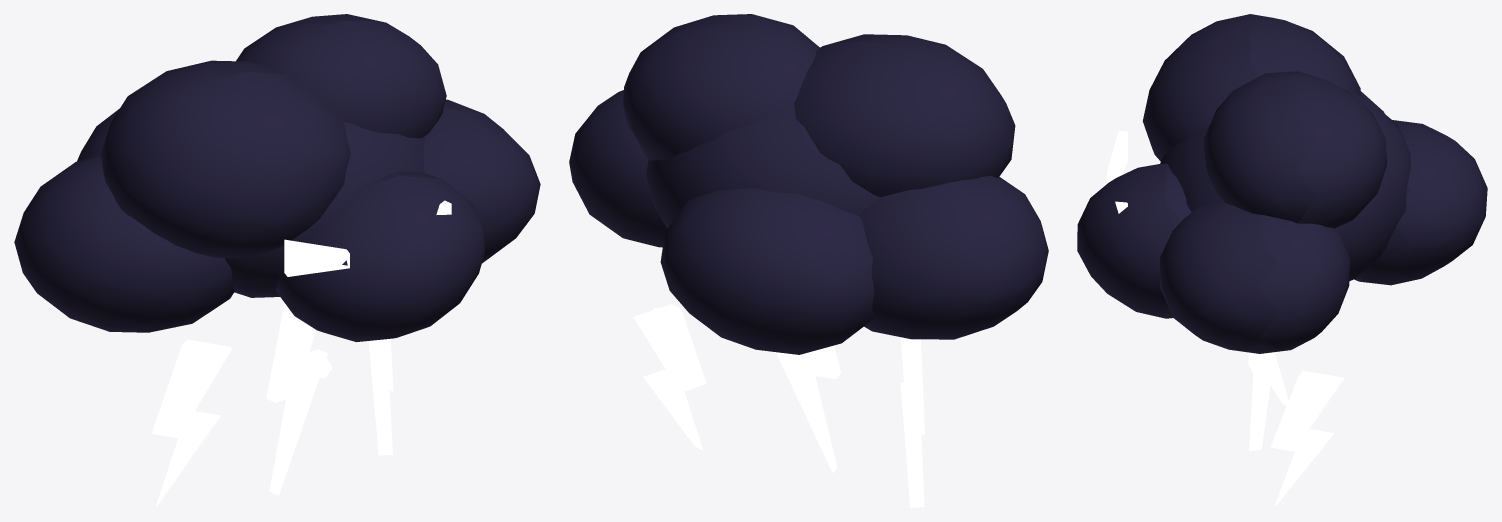
Rendered from nuvem-trovao.glb.
3 renders of one model, left to right at view 1: azimuth 30°, elevation 25°; view 2: azimuth 150°, elevation 25°; view 3: azimuth 270°, elevation 25°, orthographic. The views are drawn at different scales.
Parts seen in each view (by area): view 1: nuvem-trovao; view 2: nuvem-trovao; view 3: nuvem-trovao.
Boxes of the visible parts, <box> form: nuvem-trovao: <box>14,14,540,507</box>; nuvem-trovao: <box>569,14,1048,507</box>; nuvem-trovao: <box>1077,14,1487,506</box>.
Bounding box in the file's own units: 2.64 × 2.34 × 2.19.
